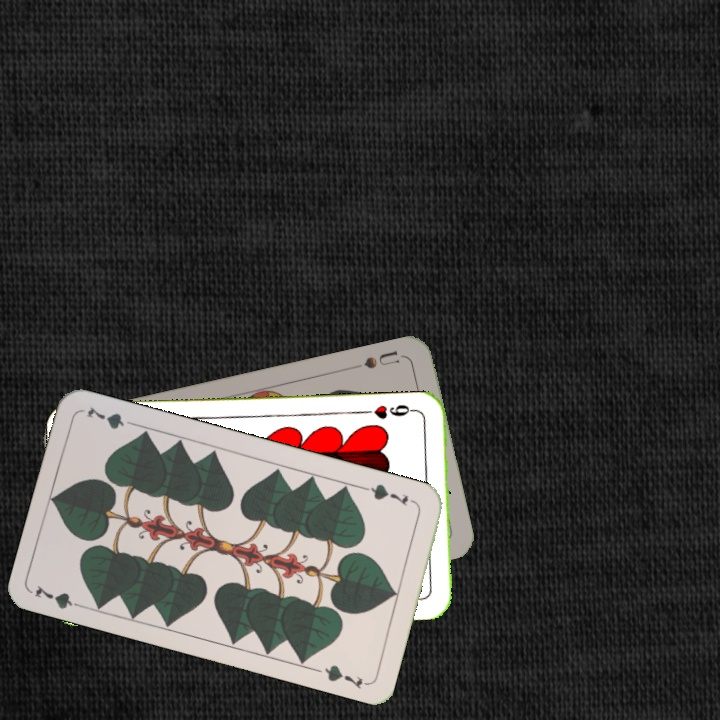G7: (30, 581, 89, 612), (360, 479, 411, 508)
H9: (361, 400, 420, 422)
SU: (360, 346, 407, 371)
